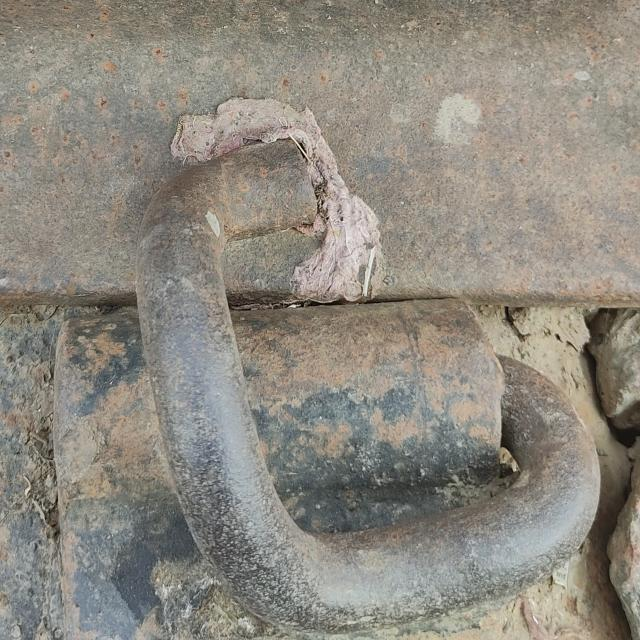track_bolt: (125, 135, 608, 640)
